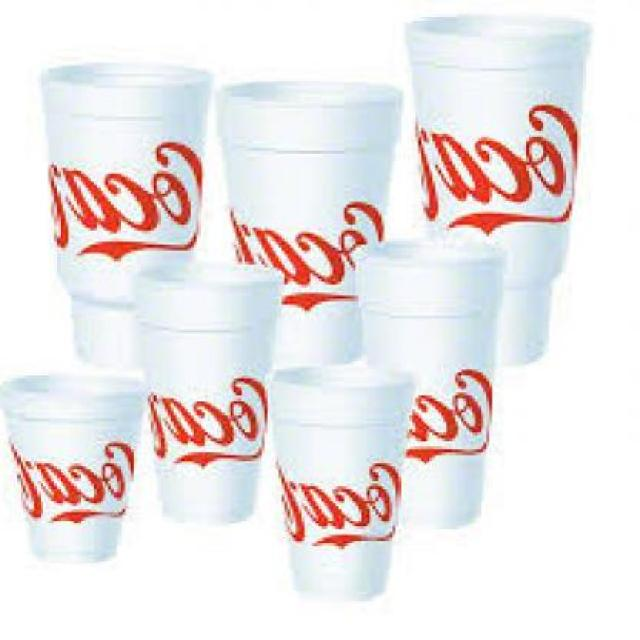PAPER: (407, 17, 595, 361), (222, 80, 407, 362), (42, 65, 213, 361), (358, 228, 509, 529), (134, 259, 288, 523), (273, 360, 418, 598), (9, 372, 148, 560)
